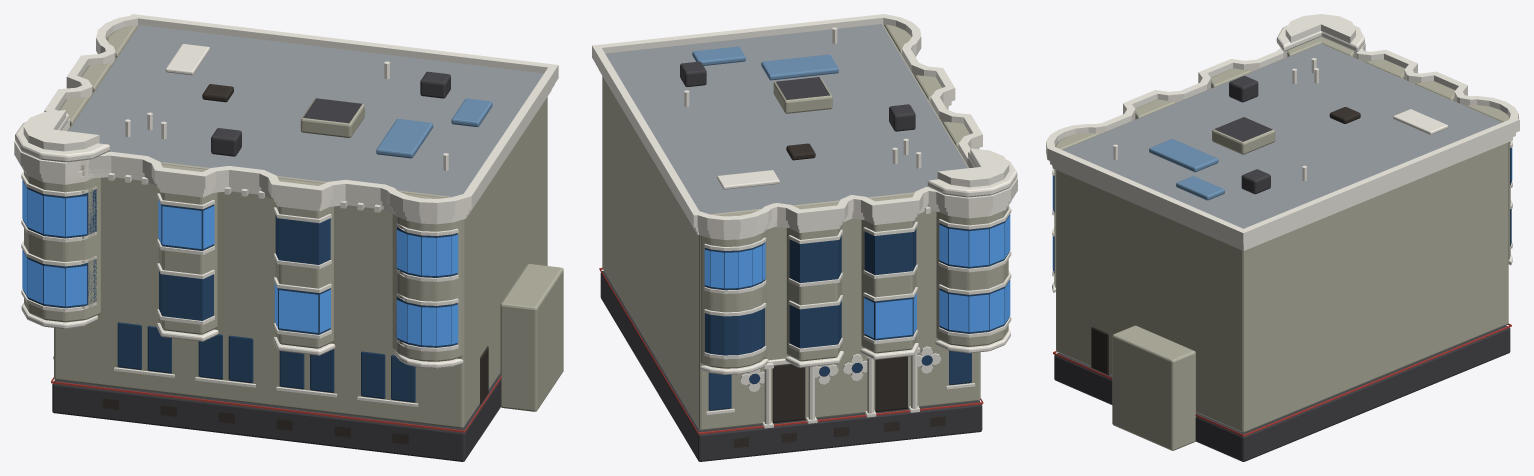
Rendered from 49-south-park.glb.
3 renders of one model, left to right at view 1: azimuth 30°, elevation 25°; view 2: azimuth 150°, elevation 25°; view 3: azimuth 270°, elevation 25°, orthographic. The views are drawn at different scales.
Parts seen in each view (by area): view 1: body, cornice_crown, basement, rear_stair, turret_body, flank_round_0_body, flank_cant_0_body, flank_cant_1_body, turret_glow0, turret_glow1, flank_round_0_glow0, flank_round_0_glow1 (+26 smaller); view 2: body, cornice_crown, basement, front_round_0_body, turret_body, turret_glow1, turret_glow0, front_cant_1_body, front_cant_0_body, front_round_0_glass0, front_round_0_glow1, front_cant_1_glass0 (+24 smaller); view 3: body, cornice_crown, basement, rear_stair, cornice_mid, cornice_bed, roof_bulkhead, crown_cap, roof_skylight_a, water_table, crown_step, rear_door (+7 smaller).
Part boxes in pixels (box(x1,y1,x2,y2)): body: box(54, 25, 547, 428); cornice_crown: box(14, 14, 558, 215); basement: box(52, 373, 500, 461); rear_stair: box(500, 264, 563, 411); turret_body: box(24, 164, 100, 322); flank_round_0_body: box(392, 193, 462, 361); flank_cant_0_body: box(158, 164, 217, 334); flank_cant_1_body: box(275, 178, 333, 348); turret_glow0: box(22, 250, 86, 306); turret_glow1: box(22, 180, 86, 236); flank_round_0_glow0: box(396, 300, 458, 345); flank_round_0_glow1: box(396, 230, 458, 275); body: box(602, 24, 980, 430); cornice_crown: box(592, 14, 1017, 232); basement: box(600, 270, 982, 461); front_round_0_body: box(700, 211, 766, 368); turret_body: box(936, 206, 1008, 346); turret_glow1: box(939, 214, 1010, 266); turret_glow0: box(939, 279, 1010, 332); front_cant_1_body: box(786, 202, 841, 361); front_cant_0_body: box(861, 194, 916, 353); front_round_0_glass0: box(705, 308, 764, 355); front_round_0_glow1: box(704, 243, 765, 288); front_cant_1_glass0: box(789, 301, 841, 348); body: box(1056, 43, 1508, 432); cornice_crown: box(1046, 43, 1519, 244); basement: box(1054, 325, 1510, 461); rear_stair: box(1112, 325, 1195, 450); cornice_mid: box(1049, 133, 1515, 247); cornice_bed: box(1052, 137, 1512, 250); roof_bulkhead: box(1212, 117, 1275, 154); crown_cap: box(1285, 14, 1355, 43); roof_skylight_a: box(1149, 139, 1218, 172); water_table: box(1053, 323, 1511, 436); crown_step: box(1276, 25, 1364, 51); rear_door: box(1091, 327, 1109, 374).
Bounding box in the file's own units: 23.63 × 13 × 22.61.
